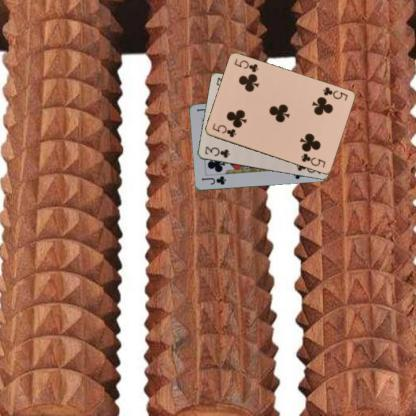3c: (202, 144, 231, 159)
5c: (320, 84, 348, 102), (210, 121, 237, 138)
Jc: (199, 173, 227, 186)
